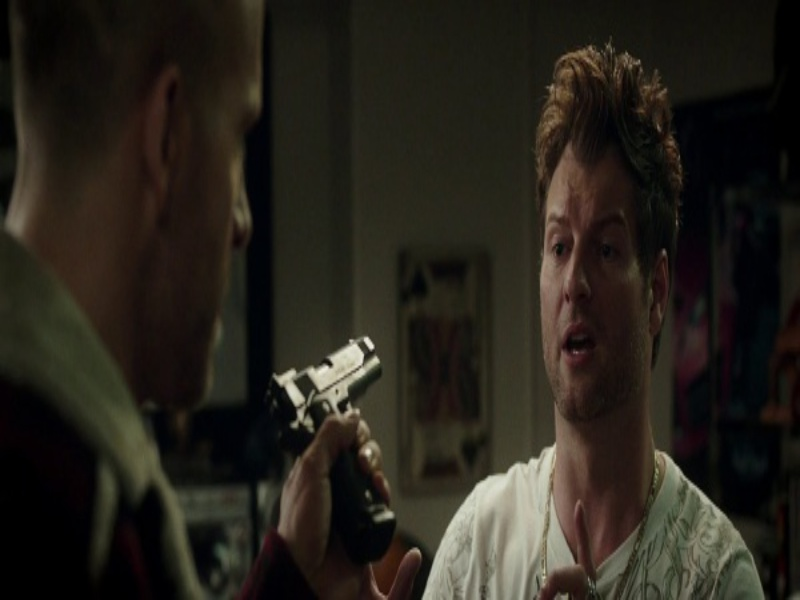person: (419, 47, 769, 594), (2, 7, 275, 598)
weapon: (261, 328, 404, 561)
